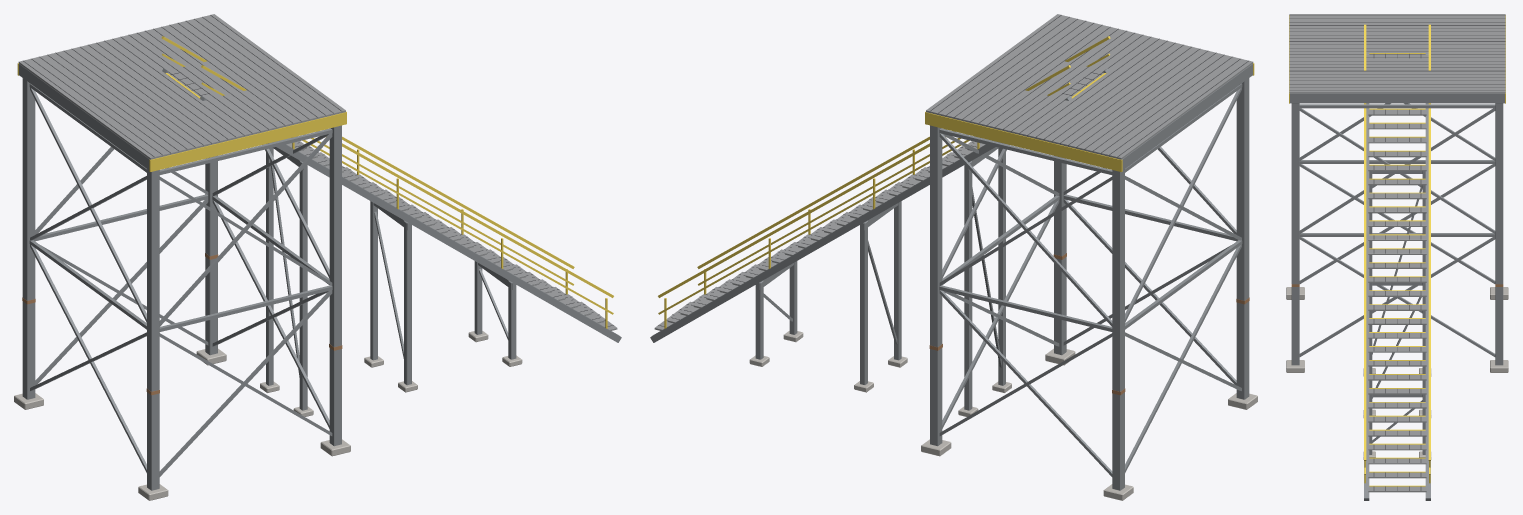
File: outfeed_tower.glb
3 renders of one model, left to right at view 1: azimuth 30°, elevation 25°; view 2: azimuth 150°, elevation 25°; view 3: azimuth 270°, elevation 25°, orthographic. The views are drawn at different scales.
Parts seen in each view (by area): view 1: ot_platform_mesh, ot_stair_mesh; view 2: ot_platform_mesh, ot_stair_mesh; view 3: ot_platform_mesh, ot_stair_mesh.
Part boxes in pixels (x1,y1,x2,y2): ot_platform_mesh: (14, 14, 350, 500); ot_stair_mesh: (161, 36, 621, 416); ot_platform_mesh: (921, 14, 1257, 500); ot_stair_mesh: (650, 36, 1110, 416); ot_platform_mesh: (1286, 14, 1508, 372); ot_stair_mesh: (1363, 24, 1431, 500).
Bounding box in the file's own units: 15.96 × 11.1 × 7.2.
